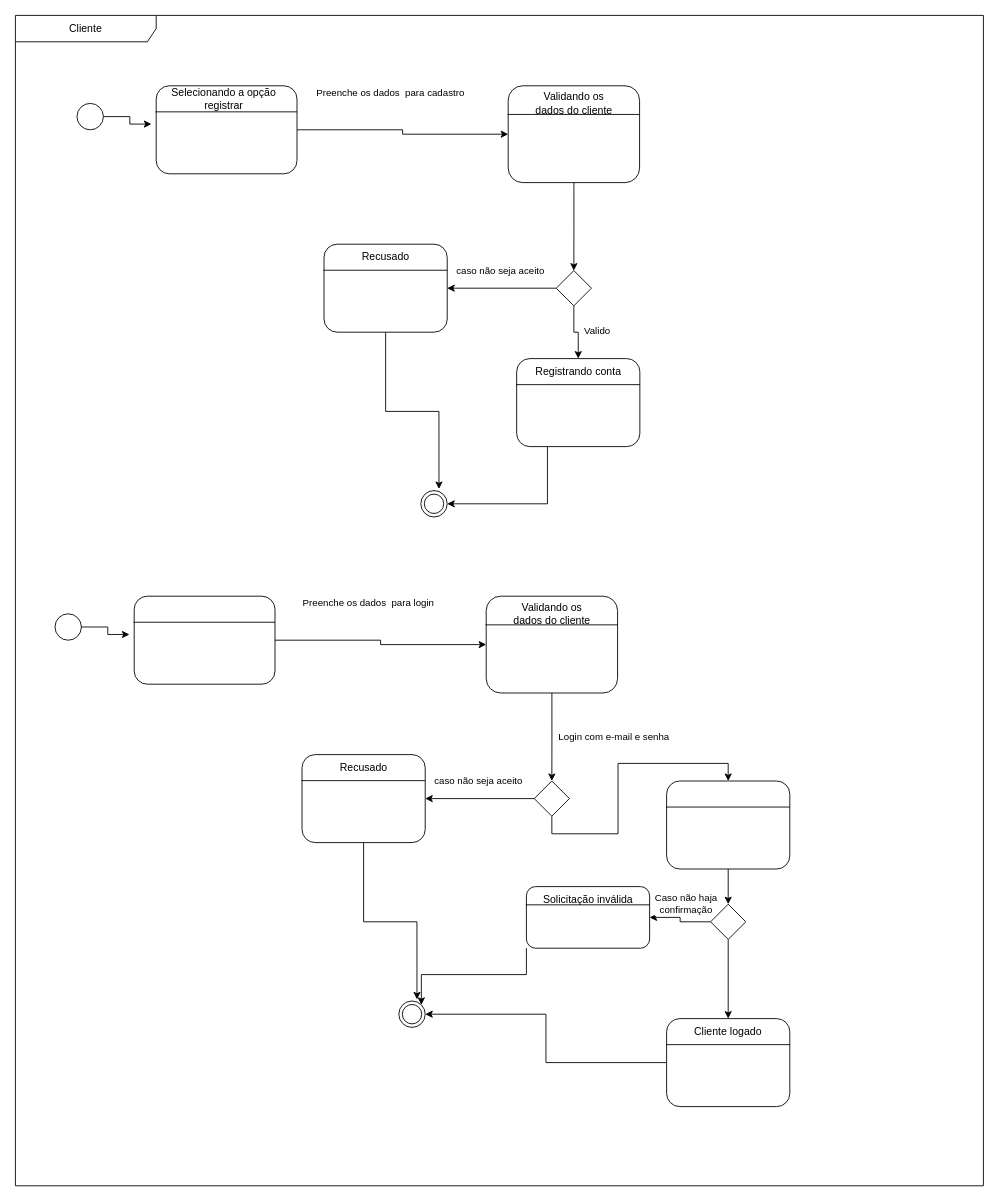
Image size: 999x1201. Some labels were removed from this diagram. Here are the shapes that lost their labels. From the top down, the box of each, then its label:
(516, 358, 640, 447): -do/RegistrarCliente
(133, 595, 275, 684): Selecionando a opção logar
(666, 780, 790, 869): Solicitação de acesso via e-mail
(666, 1018, 790, 1107): -do/Logar
